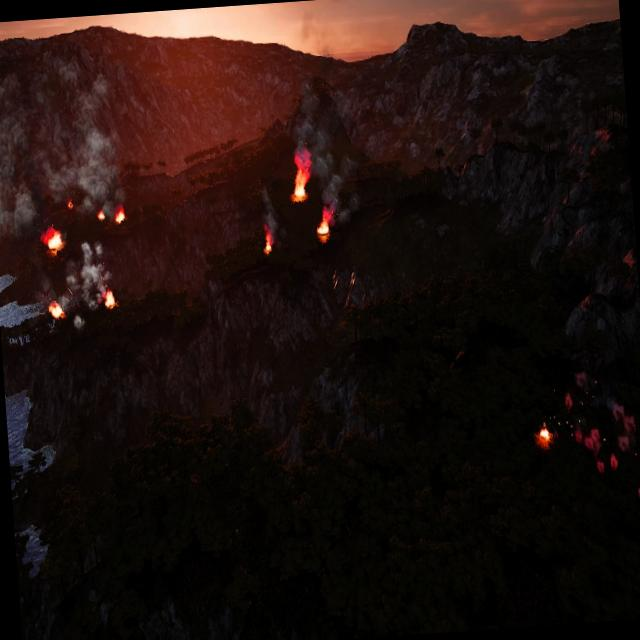fire: (290, 152, 314, 203), (534, 424, 554, 448), (44, 228, 64, 252), (262, 228, 274, 256), (104, 288, 118, 308), (51, 301, 64, 320), (115, 210, 127, 226), (98, 210, 105, 220), (68, 200, 74, 210)
smoke: (0, 57, 127, 233), (558, 361, 640, 507), (292, 85, 361, 225), (60, 240, 118, 328)
